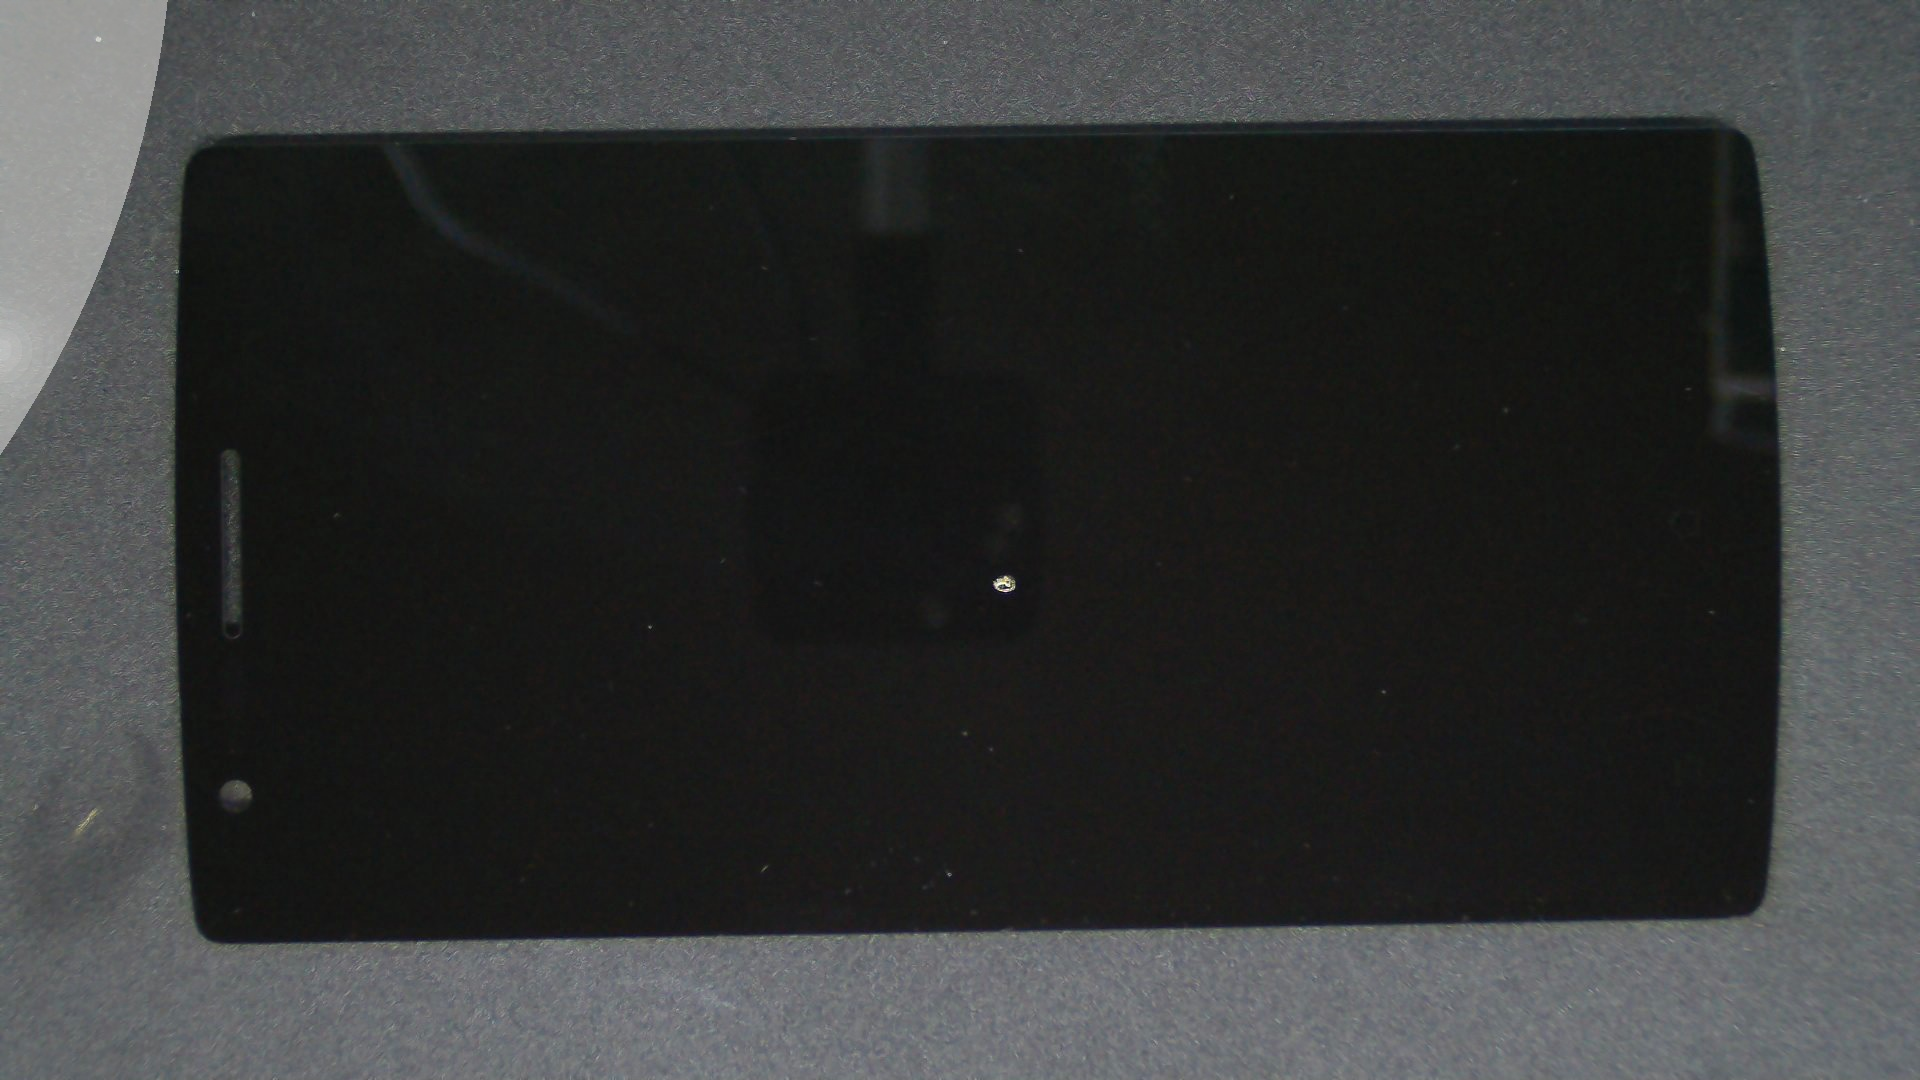oil: (502, 286, 1507, 861)
